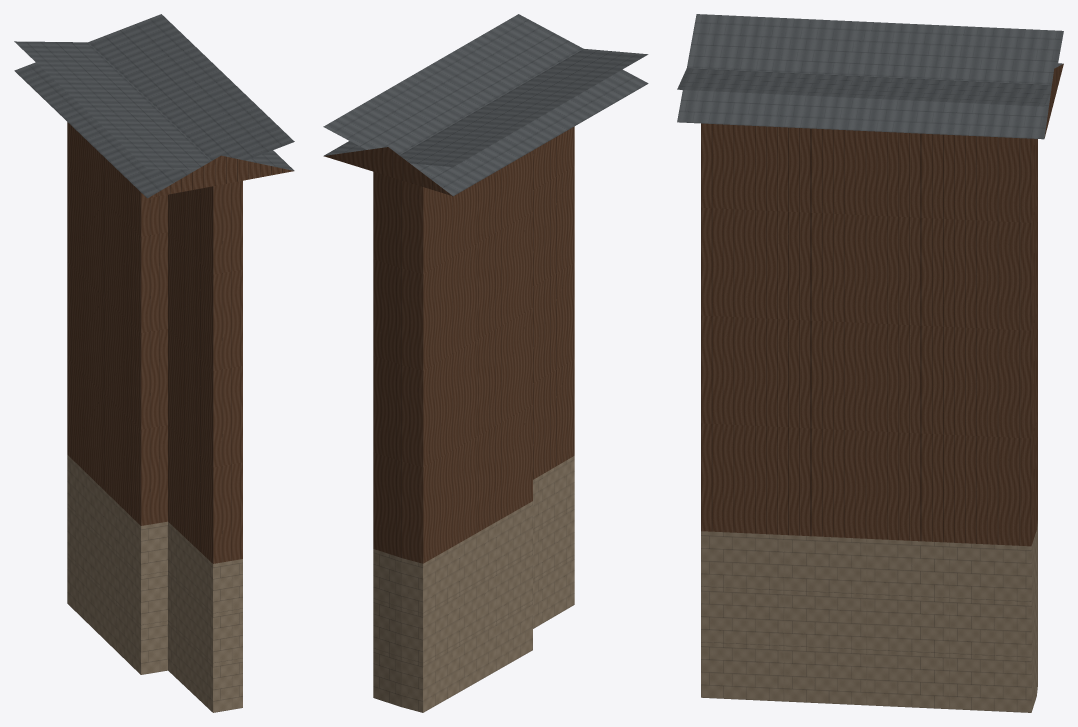
File: bld_c-2_1_538.gltf
The picture shows the model from 3 angles, left to right: view 1: azimuth 30°, elevation 25°; view 2: azimuth 150°, elevation 25°; view 3: azimuth 270°, elevation 25°; orthographic projection. The views are drawn at different scales.
Parts seen in each view (by area): view 1: bld_c-2_1_538; view 2: bld_c-2_1_538; view 3: bld_c-2_1_538.
Part boxes in pixels (x1,y1,x2,y2): bld_c-2_1_538: (14,14,294,712); bld_c-2_1_538: (323,14,648,712); bld_c-2_1_538: (677,14,1063,712).
Bounding box in the file's own units: 6.08 × 19.3 × 10.74.
Materials: 4 (4 with a texture image).
